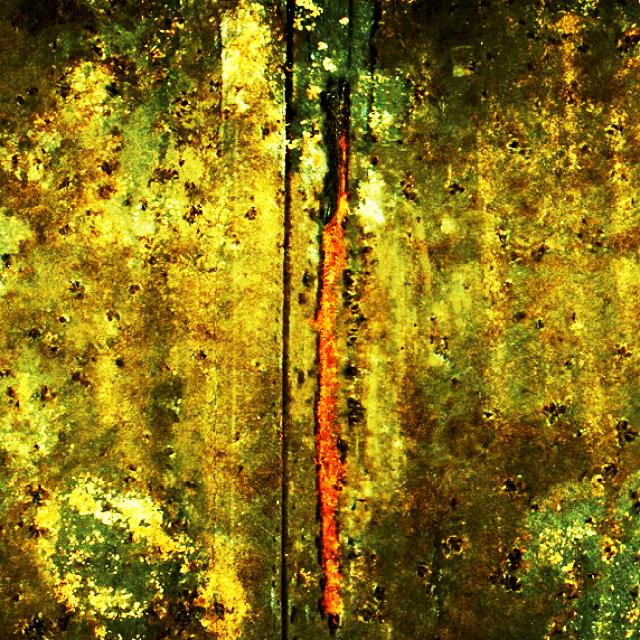Corrosion: (315, 79, 352, 629)
